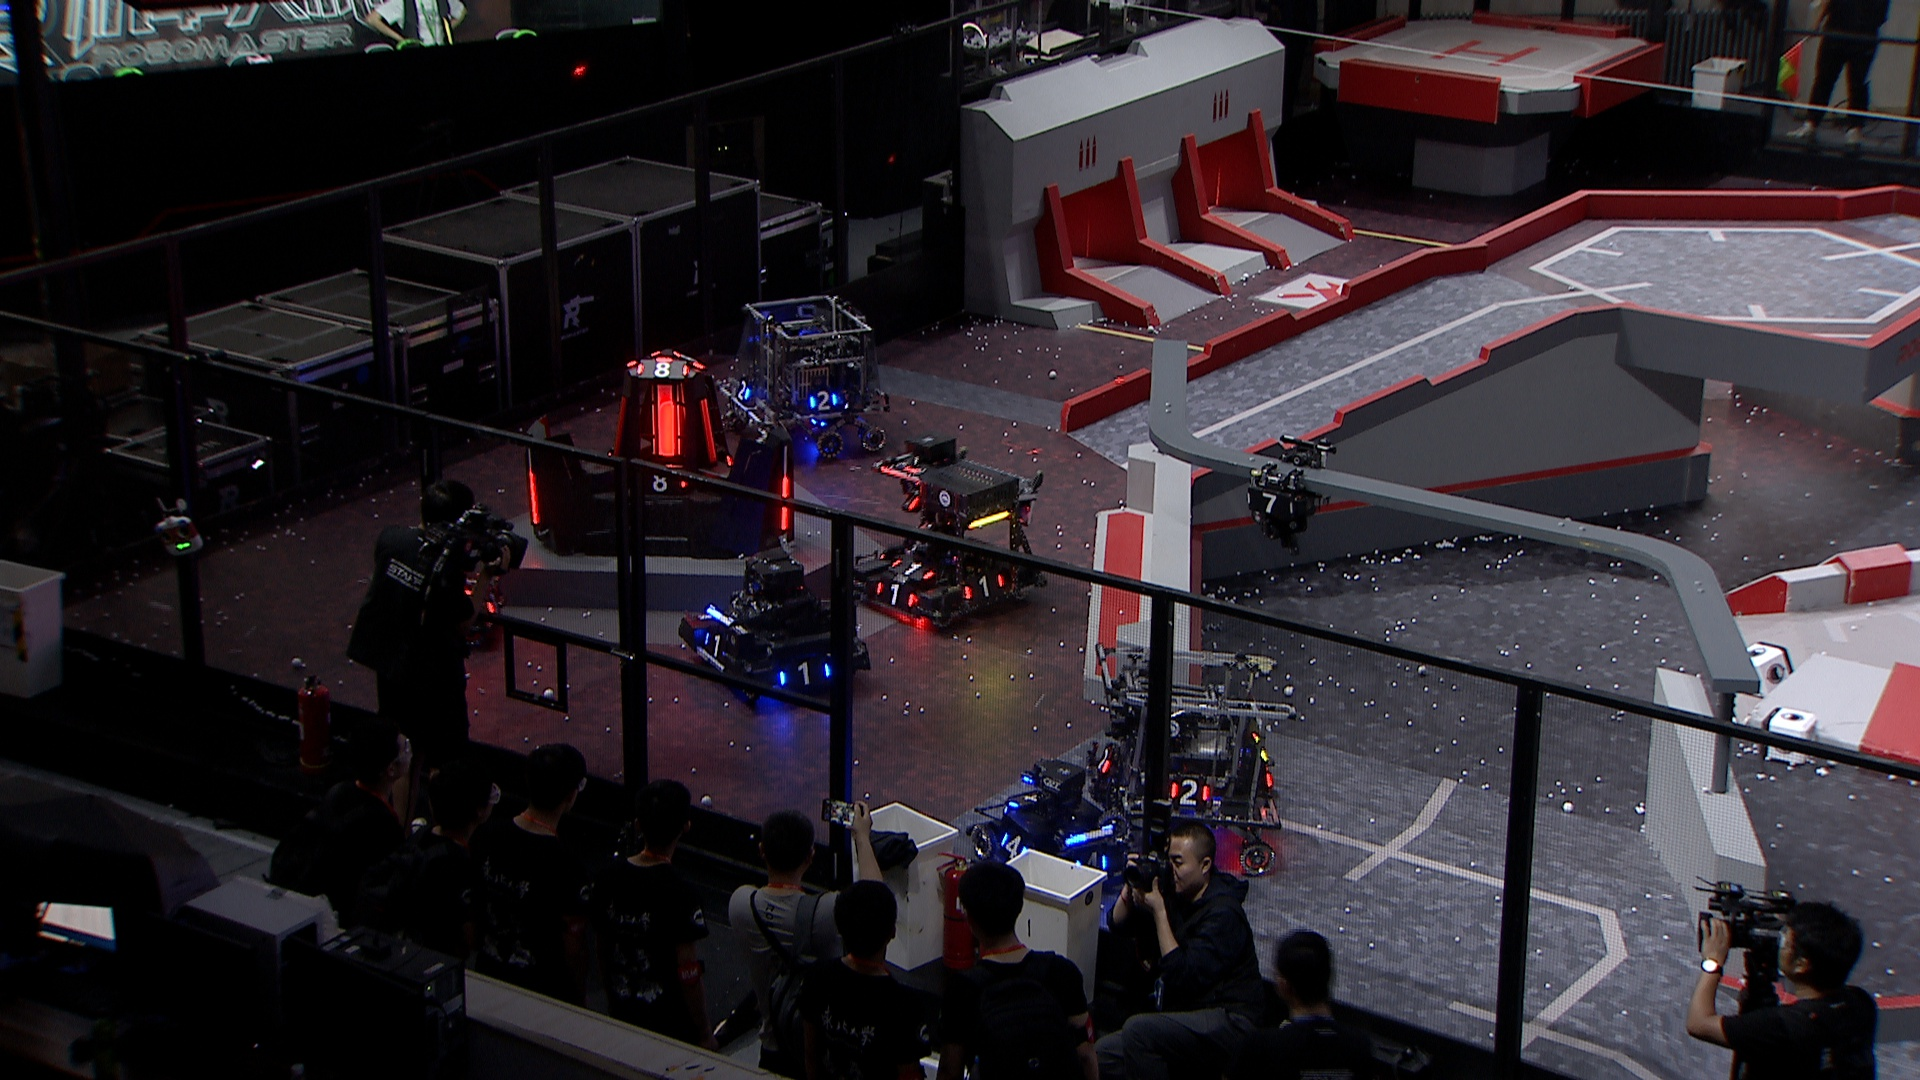armor: (650, 400, 683, 460), (775, 657, 833, 688), (961, 570, 1007, 600), (874, 579, 920, 609), (1247, 491, 1296, 518), (887, 556, 938, 583), (699, 396, 717, 465), (1168, 779, 1211, 807), (644, 469, 692, 493), (633, 360, 690, 380), (611, 394, 626, 458), (526, 469, 543, 524), (702, 632, 733, 661), (1072, 851, 1112, 872), (778, 473, 793, 529), (1001, 831, 1029, 860), (1005, 790, 1040, 812), (807, 390, 841, 411), (483, 589, 505, 615), (1093, 746, 1112, 777), (735, 377, 756, 404)
base: (520, 349, 798, 556)
car: (1083, 638, 1300, 880), (841, 431, 1044, 633), (717, 294, 891, 462), (688, 547, 870, 703), (964, 752, 1129, 897), (365, 531, 512, 654)
watcher: (1244, 433, 1335, 555)
